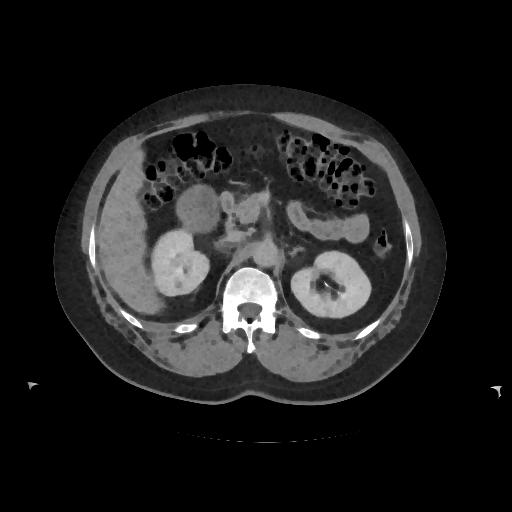Lesion: (170, 183, 227, 237)
